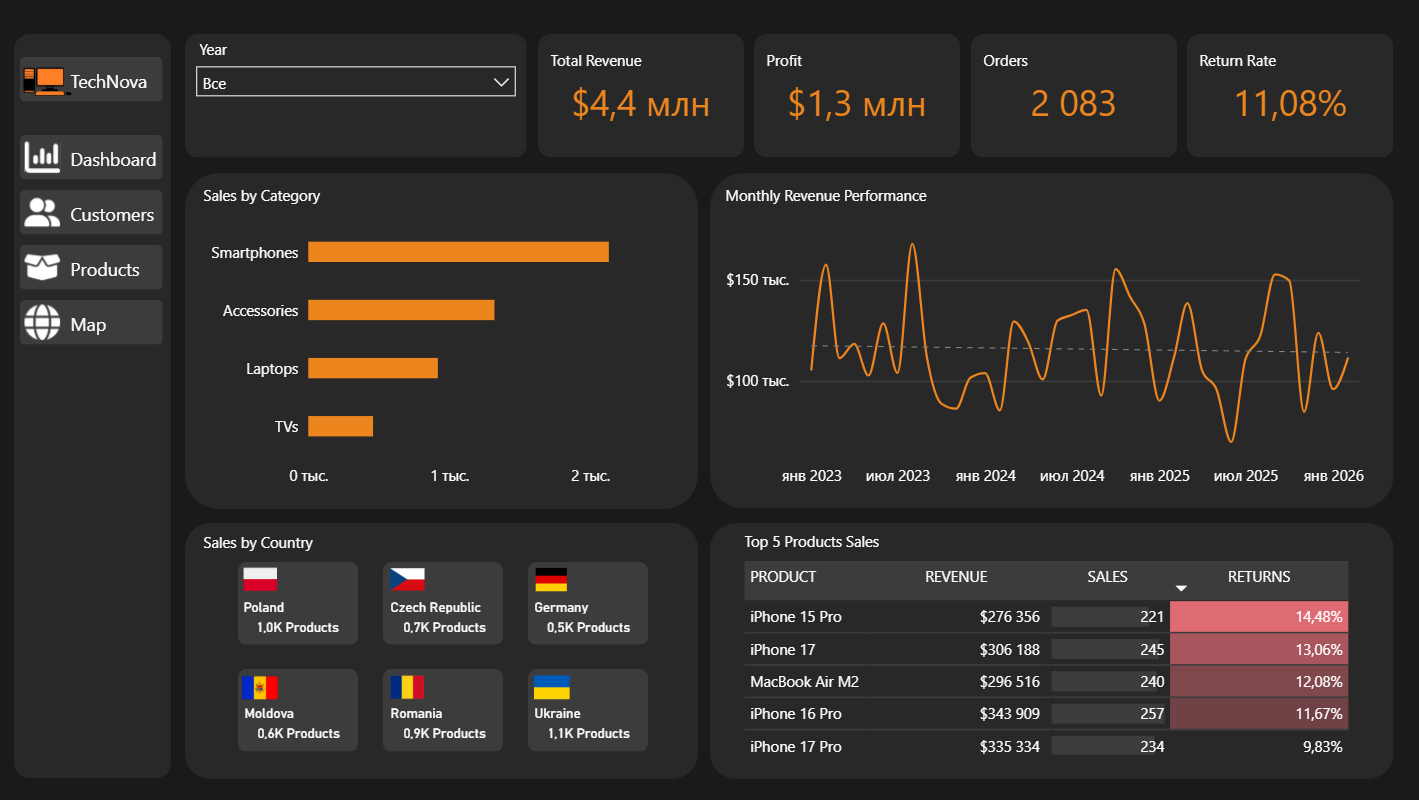

The page's visual inventory and layout, read from the dashboard file:
{"tool":"powerbi","page":{"name":"Dashboard","canvas":[1280,720],"ordinal":0},"visuals":[{"type":"group","id":"g1","title":"Группа 2","box":[485.8,31.2,768,110.9],"z":0},{"type":"shape","box":[640,470.7,613.8,229.8],"z":0,"group":"g5"},{"type":"shape","box":[21,52,128,40],"z":500,"group":"g12"},{"type":"shape","box":[21,122,128,40],"z":500,"group":"g8"},{"type":"shape","box":[21,171.3,128,40],"z":500,"group":"g9"},{"type":"shape","box":[21,220.7,128,40],"z":500,"group":"g10"},{"type":"shape","box":[21,270,128,40],"z":500,"group":"g11"},{"type":"actionButton","box":[21,122,46,40],"z":1000,"group":"g8"},{"type":"actionButton","box":[21,171.3,46,40],"z":1000,"group":"g9"},{"type":"actionButton","box":[21,220.7,46,40],"z":1000,"group":"g10"},{"type":"actionButton","box":[21,270,46,40],"z":1000,"group":"g11"},{"type":"shape","box":[168.8,470.4,460.5,229.8],"z":1000},{"type":"pivotTable","title":"Top 5 Products Sales","fields":{"Rows":["dim_products.product_name"],"Values":["measure_table.Total_Revenue","measure_table.Order_Item_Quantity","measure_table.Return_Rate"]},"box":[666.2,477.8,561.4,215.7],"z":1000,"group":"g5"},{"type":"shape","box":[485.8,31.2,185.3,110.9],"z":1001,"group":"g2"},{"type":"shape","box":[680,31.2,185.3,110.9],"z":1001,"group":"g4"},{"type":"shape","box":[874.3,31.2,185.3,110.9],"z":1001,"group":"g6"},{"type":"shape","box":[1068.5,31.2,185.3,110.9],"z":1001,"group":"g7"},{"type":"card","title":"Total Revenue","fields":{"Values":["measure_table.Total_Revenue"]},"box":[492.5,45.2,171.9,82.9],"z":1501,"group":"g2"},{"type":"card","title":"Profit","fields":{"Values":["measure_table.Total_Profit"]},"box":[686.7,45.2,171.9,82.9],"z":1501,"group":"g4"},{"type":"card","title":"Orders","fields":{"Values":["measure_table.Order_Quantity"]},"box":[881,45.2,171.9,82.9],"z":1501,"group":"g6"},{"type":"card","title":"Return Rate","fields":{"Values":["measure_table.Return_Rate"]},"box":[1075.2,45.2,171.9,82.9],"z":1501,"group":"g7"},{"type":"group","id":"g2","title":"Группа 1","box":[485.8,31.2,185.3,110.9],"z":2000,"group":"g1"},{"type":"textbox","box":[61,57,95,35],"z":2000,"group":"g12"},{"type":"textbox","box":[61,127,95,35],"z":2000,"group":"g8"},{"type":"group","id":"g3","title":"Группа 3","box":[640,156.2,613.8,301.4],"z":2000},{"type":"textbox","box":[61,176.3,95,35],"z":2000,"group":"g9"},{"type":"textbox","box":[61,225.7,95,35],"z":2000,"group":"g10"},{"type":"textbox","box":[61,275,95,35],"z":2000,"group":"g11"},{"type":"shape","box":[640,156.2,613.8,301.4],"z":2500,"group":"g3"},{"type":"group","id":"g4","title":"Группа 1","box":[680,31.2,185.3,110.9],"z":3000,"group":"g1"},{"type":"group","id":"g5","title":"Группа 4","box":[640,470.7,613.8,229.8],"z":3000},{"type":"lineChart","title":"Monthly Revenue Performance","fields":{"Category":["dim_calendar.Start of Month"],"Y":["measure_table.Total_Revenue"]},"box":[649.1,167.3,595.7,279.2],"z":3500,"group":"g3"},{"type":"group","id":"g6","title":"Группа 1","box":[874.3,31.2,185.3,110.9],"z":4000,"group":"g1"},{"type":"shape","box":[168.8,156.2,460.5,301.6],"z":4000},{"type":"group","id":"g7","title":"Группа 1","box":[1068.5,31.2,185.3,110.9],"z":5000,"group":"g1"},{"type":"clusteredBarChart","title":"Sales by Category","fields":{"Category":["dim_categories.category_name"],"Y":["measure_table.Order_Item_Quantity"]},"box":[180.4,167,438.1,279.2],"z":5000},{"type":"shape","box":[169.2,31.6,306.8,111.1],"z":6000},{"type":"slicer","fields":{"Values":["dim_calendar.Year"]},"box":[169.2,31.6,306.8,111.1],"z":7000},{"type":"shape","box":[216.1,505.5,108.1,74.4],"z":8000},{"type":"shape","box":[346.6,505.5,107.9,74.4],"z":9000},{"type":"shape","box":[477,505.5,107.9,74.4],"z":10000},{"type":"shape","box":[216.1,601.3,107.9,74.4],"z":11000},{"type":"shape","box":[346.6,601.3,107.9,74.4],"z":12000},{"type":"shape","box":[477.1,601.3,107.9,74.4],"z":13000},{"type":"card","title":"Poland","fields":{"Values":["measure_table.Order_Item_Quantity by Country"]},"box":[216.1,518.7,107,61.1],"z":14000},{"type":"image","box":[216.1,505.5,39.7,30.6],"z":15000},{"type":"card","title":"Czech Republic","fields":{"Values":["measure_table.Order_Item_Quantity by Country"]},"box":[348.2,518.8,107.1,61.2],"z":16000},{"type":"card","title":"Germany","fields":{"Values":["measure_table.Order_Item_Quantity by Country"]},"box":[477.6,518.8,107.1,61.2],"z":17000},{"type":"card","title":"Moldova","fields":{"Values":["measure_table.Order_Item_Quantity by Country"]},"box":[217.6,614.1,107.1,61.2],"z":18000},{"type":"card","title":"Romania","fields":{"Values":["measure_table.Order_Item_Quantity by Country"]},"box":[348.2,614.1,107.1,61.2],"z":19000},{"type":"card","title":"Ukraine","fields":{"Values":["measure_table.Order_Item_Quantity by Country"]},"box":[477.6,614.1,107.1,61.2],"z":20000},{"type":"image","box":[352.9,509.4,30.6,23.5],"z":21000},{"type":"image","box":[477.6,507.1,40,28],"z":22000},{"type":"image","box":[220,597.6,31.8,41.2],"z":23000},{"type":"image","box":[348.2,602.4,40,30.6],"z":24000},{"type":"image","box":[482.4,605.9,31.8,23.5],"z":25000},{"type":"textbox","box":[180,474.1,128.2,31.8],"z":26000},{"type":"shape","box":[15.3,31.8,141.2,668.2],"z":27000},{"type":"group","id":"g8","title":"Группа 1","box":[21,122,135,40],"z":28000},{"type":"group","id":"g9","title":"Группа 1","box":[21,171.3,135,40],"z":29000},{"type":"group","id":"g10","title":"Группа 1","box":[21,220.7,135,40],"z":30000},{"type":"group","id":"g11","title":"Группа 1","box":[21,270,135,40],"z":31000},{"type":"group","id":"g12","title":"Группа 1","box":[21,52,135,40],"z":32000},{"type":"image","box":[19,51,53,47],"z":33000}]}

Visuals, with their boxes on the page's 1280x720 design canvas (x1, y1, x2, y2). These are canvas units, not pixel positions in the 1419x800 screenshot, which may show the page scaled, cropped or inside an application window:
"Группа 2" group: [486,31,1254,142]
shape: [640,471,1254,700]
shape: [21,52,149,92]
shape: [21,122,149,162]
shape: [21,171,149,211]
shape: [21,221,149,261]
shape: [21,270,149,310]
actionButton: [21,122,67,162]
actionButton: [21,171,67,211]
actionButton: [21,221,67,261]
actionButton: [21,270,67,310]
shape: [169,470,629,700]
"Top 5 Products Sales" pivotTable: [666,478,1228,694]
shape: [486,31,671,142]
shape: [680,31,865,142]
shape: [874,31,1060,142]
shape: [1068,31,1254,142]
"Total Revenue" card: [492,45,664,128]
"Profit" card: [687,45,859,128]
"Orders" card: [881,45,1053,128]
"Return Rate" card: [1075,45,1247,128]
"Группа 1" group: [486,31,671,142]
textbox: [61,57,156,92]
textbox: [61,127,156,162]
"Группа 3" group: [640,156,1254,458]
textbox: [61,176,156,211]
textbox: [61,226,156,261]
textbox: [61,275,156,310]
shape: [640,156,1254,458]
"Группа 1" group: [680,31,865,142]
"Группа 4" group: [640,471,1254,700]
"Monthly Revenue Performance" lineChart: [649,167,1245,446]
"Группа 1" group: [874,31,1060,142]
shape: [169,156,629,458]
"Группа 1" group: [1068,31,1254,142]
"Sales by Category" clusteredBarChart: [180,167,618,446]
shape: [169,32,476,143]
slicer - dim_calendar.Year: [169,32,476,143]
shape: [216,506,324,580]
shape: [347,506,454,580]
shape: [477,506,585,580]
shape: [216,601,324,676]
shape: [347,601,454,676]
shape: [477,601,585,676]
"Poland" card: [216,519,323,580]
image: [216,506,256,536]
"Czech Republic" card: [348,519,455,580]
"Germany" card: [478,519,585,580]
"Moldova" card: [218,614,325,675]
"Romania" card: [348,614,455,675]
"Ukraine" card: [478,614,585,675]
image: [353,509,384,533]
image: [478,507,518,535]
image: [220,598,252,639]
image: [348,602,388,633]
image: [482,606,514,629]
textbox: [180,474,308,506]
shape: [15,32,156,700]
"Группа 1" group: [21,122,156,162]
"Группа 1" group: [21,171,156,211]
"Группа 1" group: [21,221,156,261]
"Группа 1" group: [21,270,156,310]
"Группа 1" group: [21,52,156,92]
image: [19,51,72,98]
